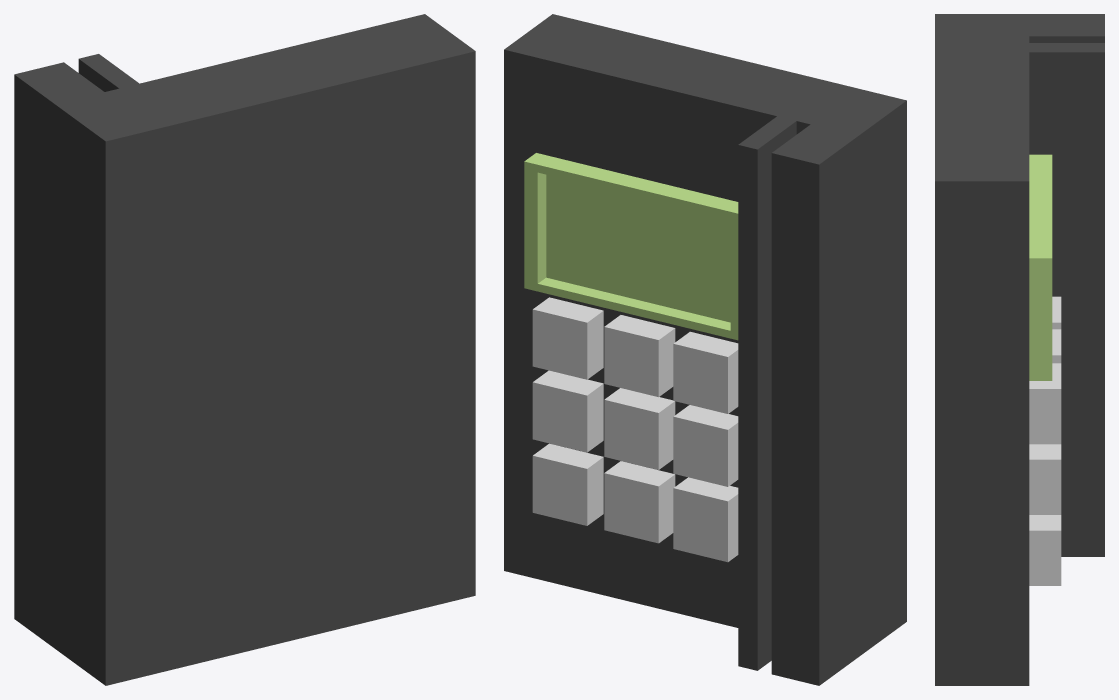
File: Keypad.fbx
3 renders of one model, left to right at view 1: azimuth 30°, elevation 25°; view 2: azimuth 150°, elevation 25°; view 3: azimuth 270°, elevation 25°, orthographic. The views are drawn at different scales.
Visible parts, largest first — view 1: pCube21; view 2: pCube21; view 3: pCube21.
Boxes of the visible parts, <box> form: pCube21: <box>14,14,475,685</box>; pCube21: <box>504,14,906,685</box>; pCube21: <box>935,14,1104,685</box>.
Size of the model in its own units: 9.23 by 12.98 by 3.96.
